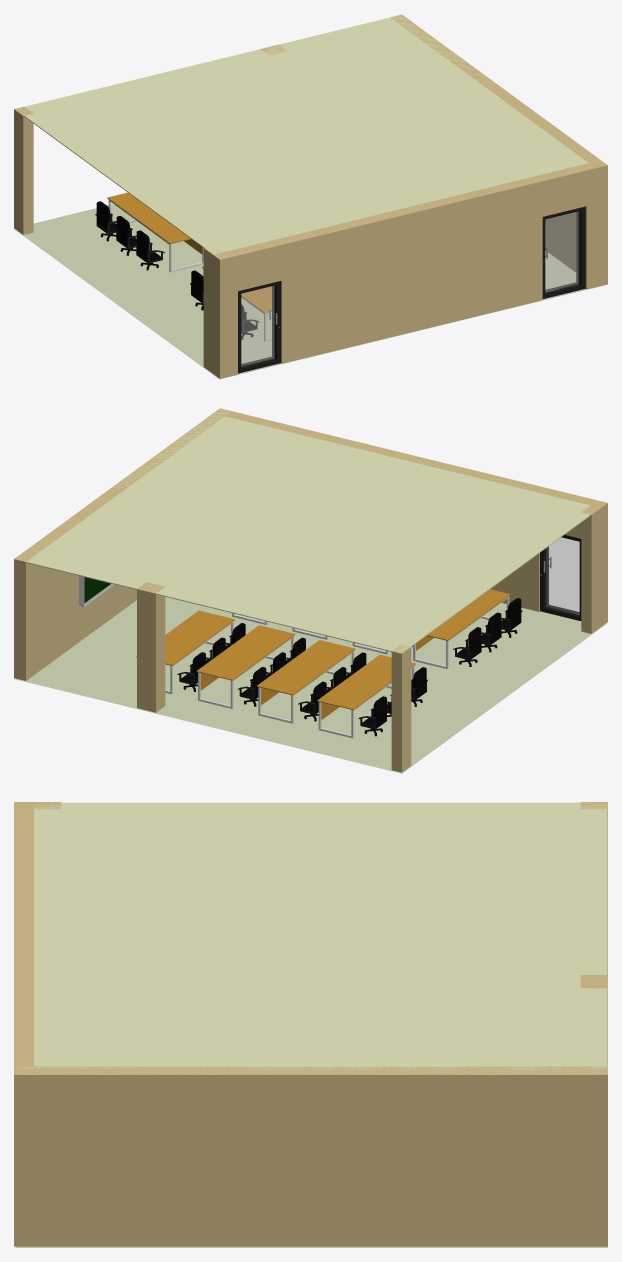
The model's file is CCIS_Hyflex2_v1.glb.
3 renders of one model, top to bottom at view 1: azimuth 30°, elevation 25°; view 2: azimuth 150°, elevation 25°; view 3: azimuth 270°, elevation 25°, orthographic. The views are drawn at different scales.
Parts seen in each view (by area): view 1: Ceiling.003; view 2: Ceiling.003; view 3: Ceiling.003.
Boxes of the visible parts, <box> form: Ceiling.003: <box>14,14,607,379</box>; Ceiling.003: <box>14,408,607,773</box>; Ceiling.003: <box>14,802,607,1247</box>.
Size of the model in its own units: 4.5 by 1.33 by 4.14.
